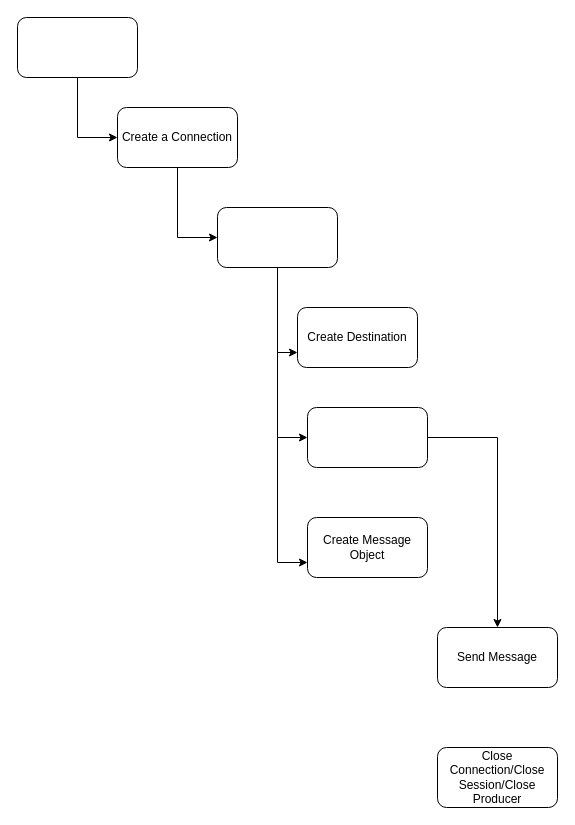
Image size: 575x825. Some labels were removed from this diagram. Here are the shapes that lost their labels. From the top down, the centre of each, then its label:
At point (77, 47): "Create Connection Factory".
At point (277, 237): "Create a Session".
At point (367, 437): "Creat Producer".
